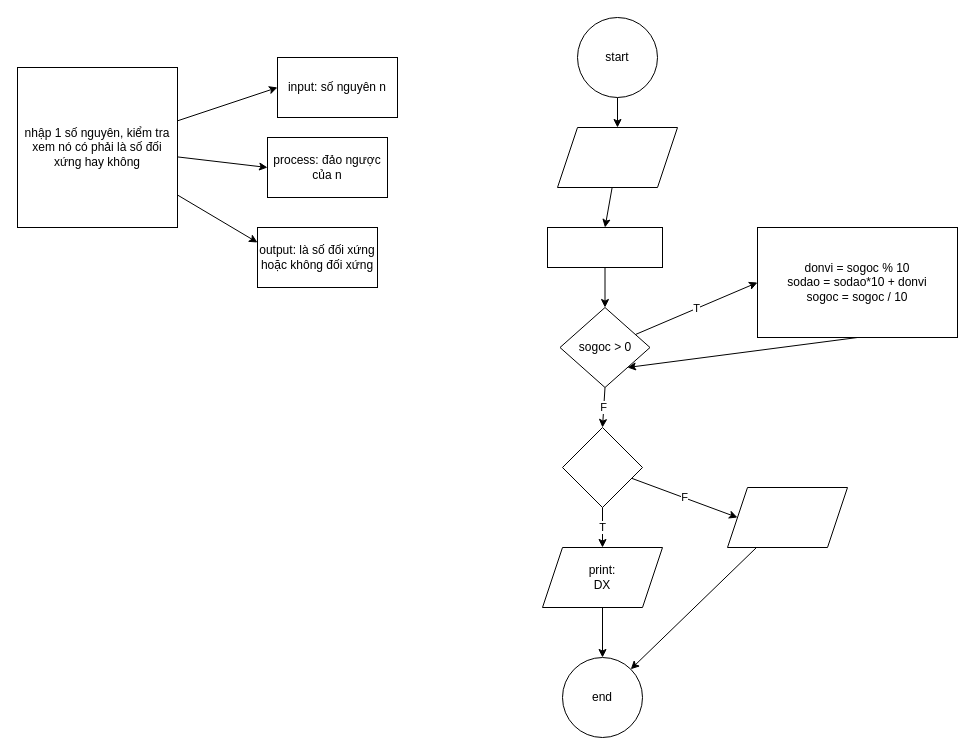
Some shapes in this 975 by 755 pixel diagram are drawn without their labels. Each missing label, with the centre of its shape:
input: n: [617,157]
print: Khong doi xung: [787,517]
sodao == n: [602,467]
sogoc = n sodao = 0: [604,247]
